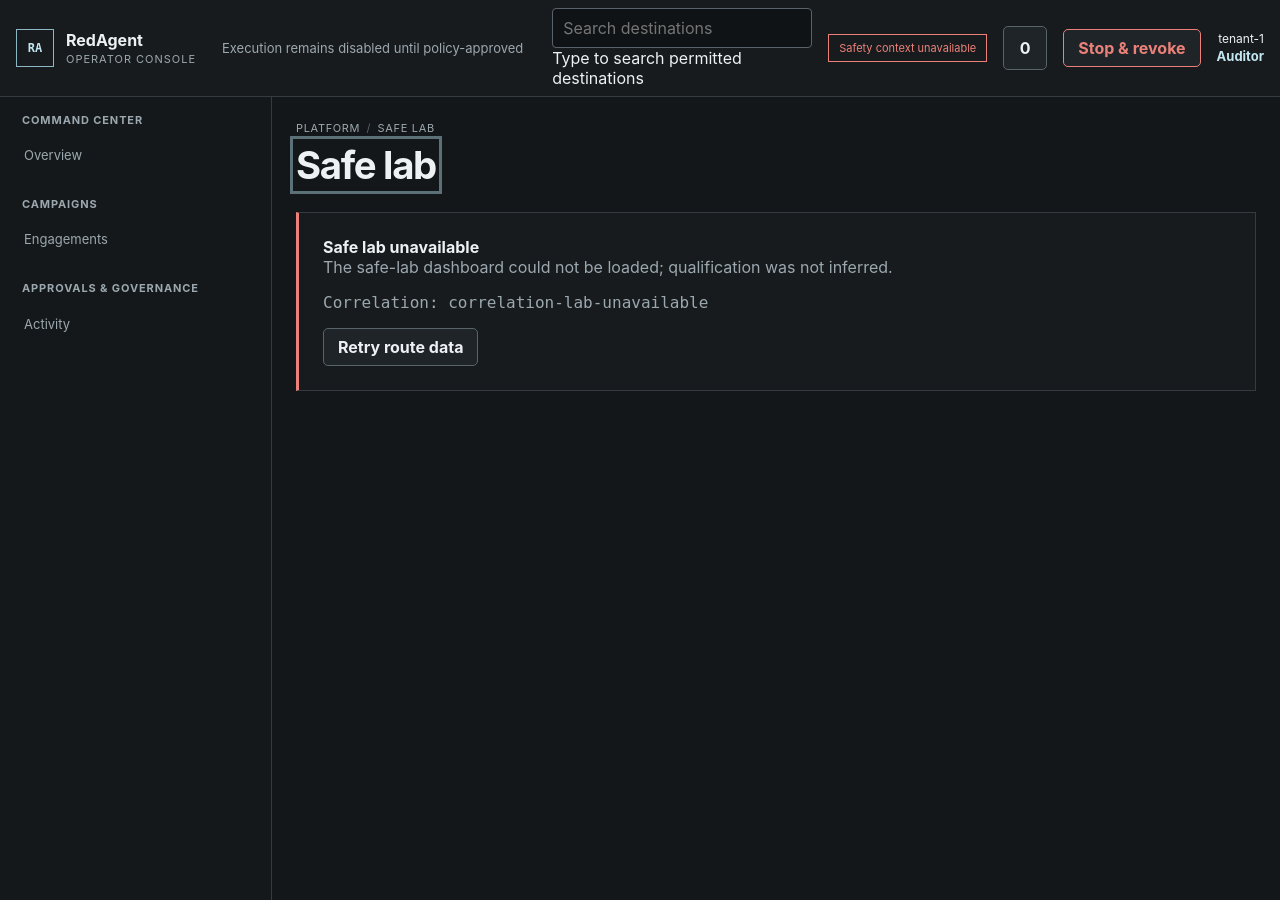
renders safe-lab correlation evidence and retries without inferring qualification
Expected: the message "Safe lab unavailable" is shown, [296,212,1256,391]
Expected: the text "Correlation: correlation-lab-unavailable" is shown, [323,293,708,312]
What coordinates should you click on to do the following:
click the button "Retry route data"
I would click on:
 (401, 347)
Its box is [323,328,478,366].
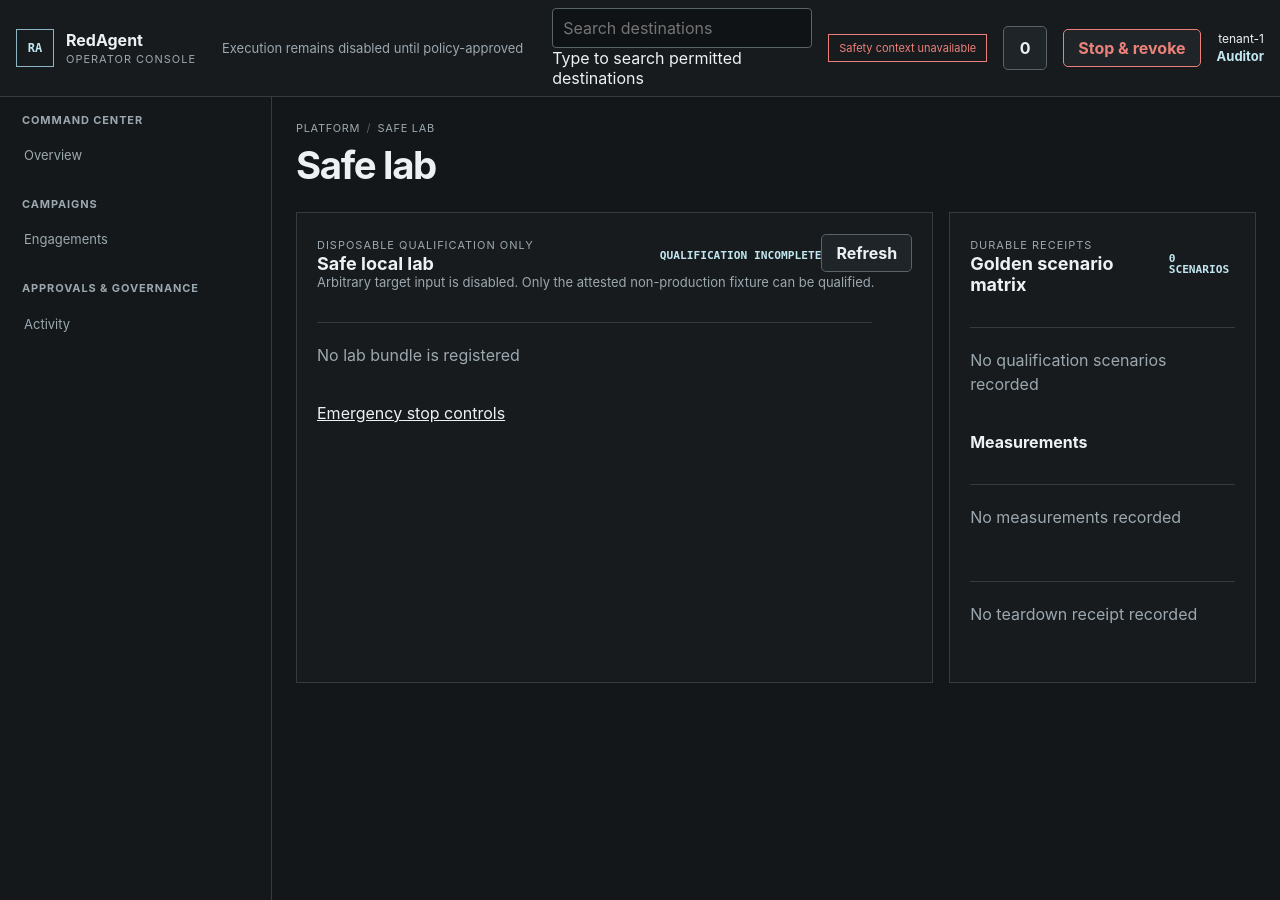
Expected: the text "No lab bundle is registered" is shown, [317,322,872,387]
Expected: the text "Qualification incomplete" is shown, [660,249,821,262]
